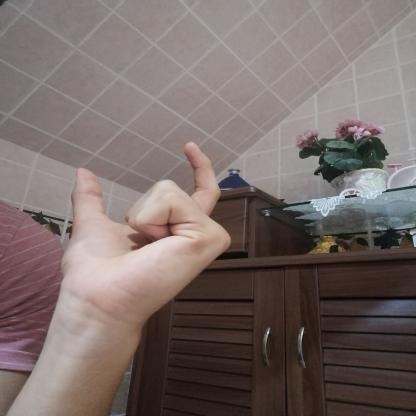NOON: (38, 130, 252, 336)
